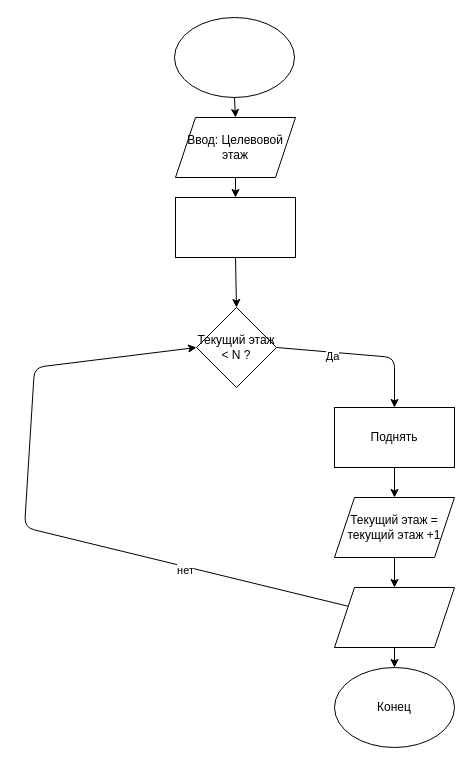
This 472x765 diagram has some shape labels left out. The box of each missing label's shape, as (x1, y1, x2, y2) in pixels:
Вы на целевом этаже: (334, 586, 454, 648)
Начало: (174, 16, 294, 98)
текущий этаж = 1: (174, 196, 296, 258)
